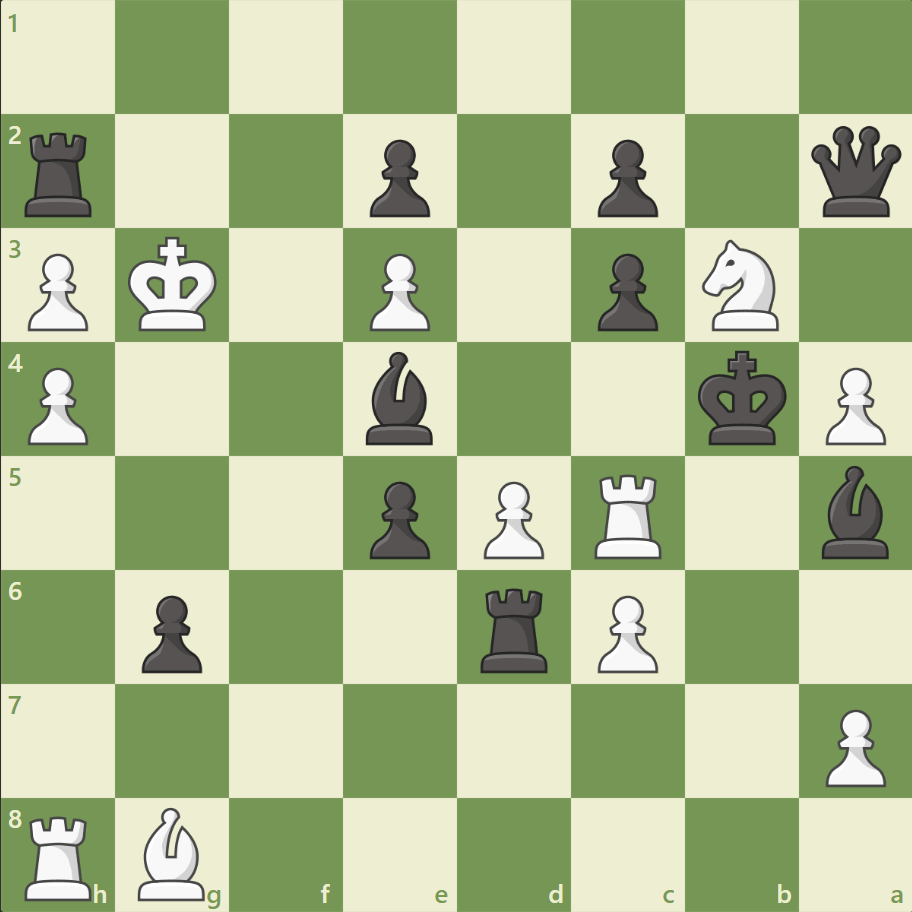B: (131, 801, 215, 904)
K: (124, 231, 224, 339)
N: (692, 234, 789, 337)
P: (474, 473, 549, 564), (20, 359, 95, 450), (20, 246, 95, 337), (815, 700, 889, 791), (588, 586, 662, 677), (815, 359, 889, 450), (361, 246, 435, 337)
R: (19, 806, 102, 904), (587, 466, 670, 563)
b: (812, 460, 896, 563), (358, 347, 442, 449)
k: (692, 344, 792, 452)
p: (133, 586, 208, 677), (361, 473, 435, 564), (588, 246, 662, 337), (588, 132, 662, 223), (361, 132, 435, 223)
q: (805, 122, 904, 222)
r: (473, 579, 556, 676), (19, 125, 102, 222)
